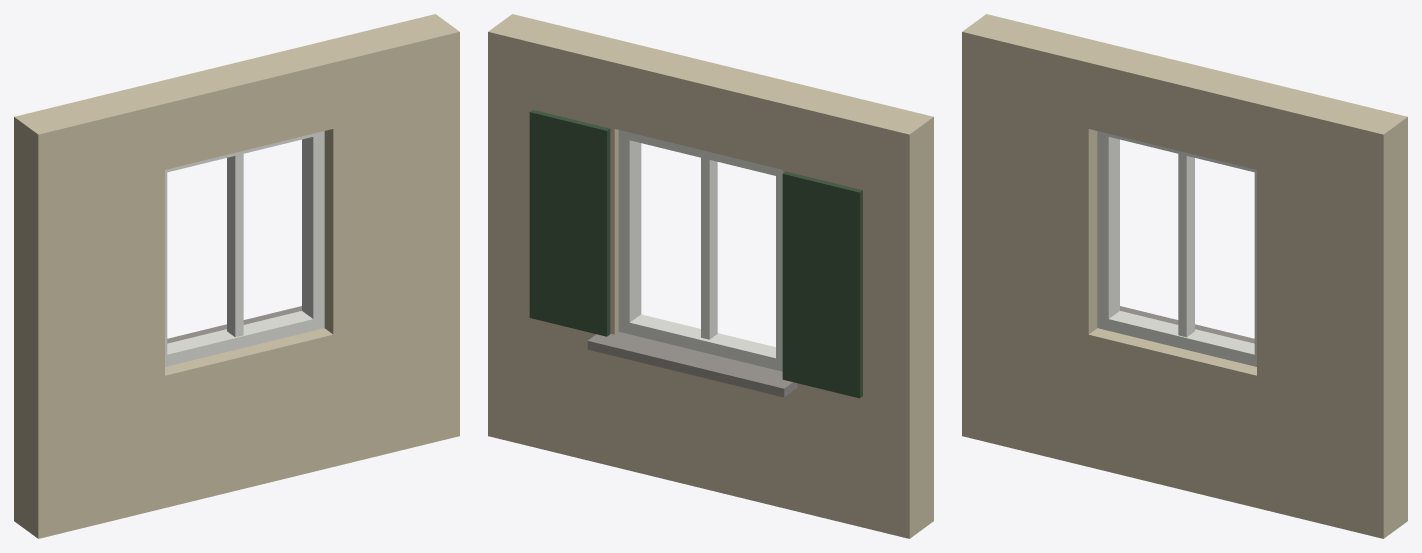
File: Kit_plaster_window.fbx
3 renders of one model, left to right at view 1: azimuth 30°, elevation 25°; view 2: azimuth 150°, elevation 25°; view 3: azimuth 330°, elevation 25°, orthographic.
Parts seen in each view (by area): view 1: WallJambL, WallJambR, WallBelow, WallAbove, FrameR, FrameBottom, Mullion, Sill, FrameTop, FrameL; view 2: WallJambL, WallJambR, WallBelow, ShutterR, ShutterL, WallAbove, Sill, FrameR, FrameBottom, Mullion, FrameL, FrameTop; view 3: WallJambR, WallJambL, WallBelow, WallAbove, FrameL, FrameBottom, Mullion, Sill, FrameTop, FrameR.
Boxes of the visible parts, x1,y1,x2,y2 form: WallJambL: [14, 86, 164, 538]; WallJambR: [309, 14, 459, 466]; WallBelow: [165, 328, 333, 507]; WallAbove: [141, 45, 333, 169]; FrameR: [302, 131, 324, 328]; FrameBottom: [165, 311, 324, 366]; Mullion: [227, 154, 243, 337]; Sill: [167, 306, 301, 343]; FrameTop: [165, 131, 324, 172]; FrameL: [165, 169, 167, 366]; WallJambL: [783, 86, 933, 538]; WallJambR: [488, 14, 638, 466]; WallBelow: [614, 356, 782, 507]; ShutterR: [529, 110, 610, 336]; ShutterL: [782, 171, 862, 398]; WallAbove: [614, 45, 806, 169]; Sill: [587, 331, 797, 397]; FrameR: [618, 130, 641, 333]; FrameBottom: [618, 314, 775, 369]; Mullion: [701, 158, 717, 339]; FrameL: [776, 168, 782, 371]; FrameTop: [626, 131, 780, 175]; WallJambR: [1257, 86, 1407, 538]; WallJambL: [962, 14, 1112, 466]; WallBelow: [1088, 328, 1256, 507]; WallAbove: [1088, 45, 1280, 169]; FrameL: [1097, 131, 1119, 330]; FrameBottom: [1097, 311, 1256, 366]; Mullion: [1178, 154, 1194, 337]; Sill: [1120, 306, 1254, 343]; FrameTop: [1097, 131, 1256, 172]; FrameR: [1254, 169, 1256, 355].
Size of the model in its own units: 300 by 46 by 275.
